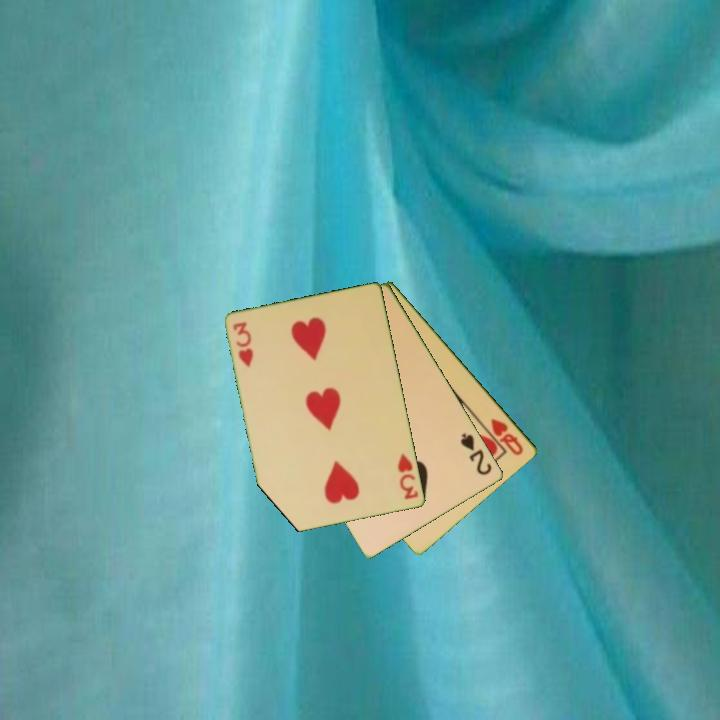2s: (457, 430, 495, 478)
3h: (394, 450, 421, 502), (230, 319, 257, 370)
Qh: (487, 415, 527, 459)
